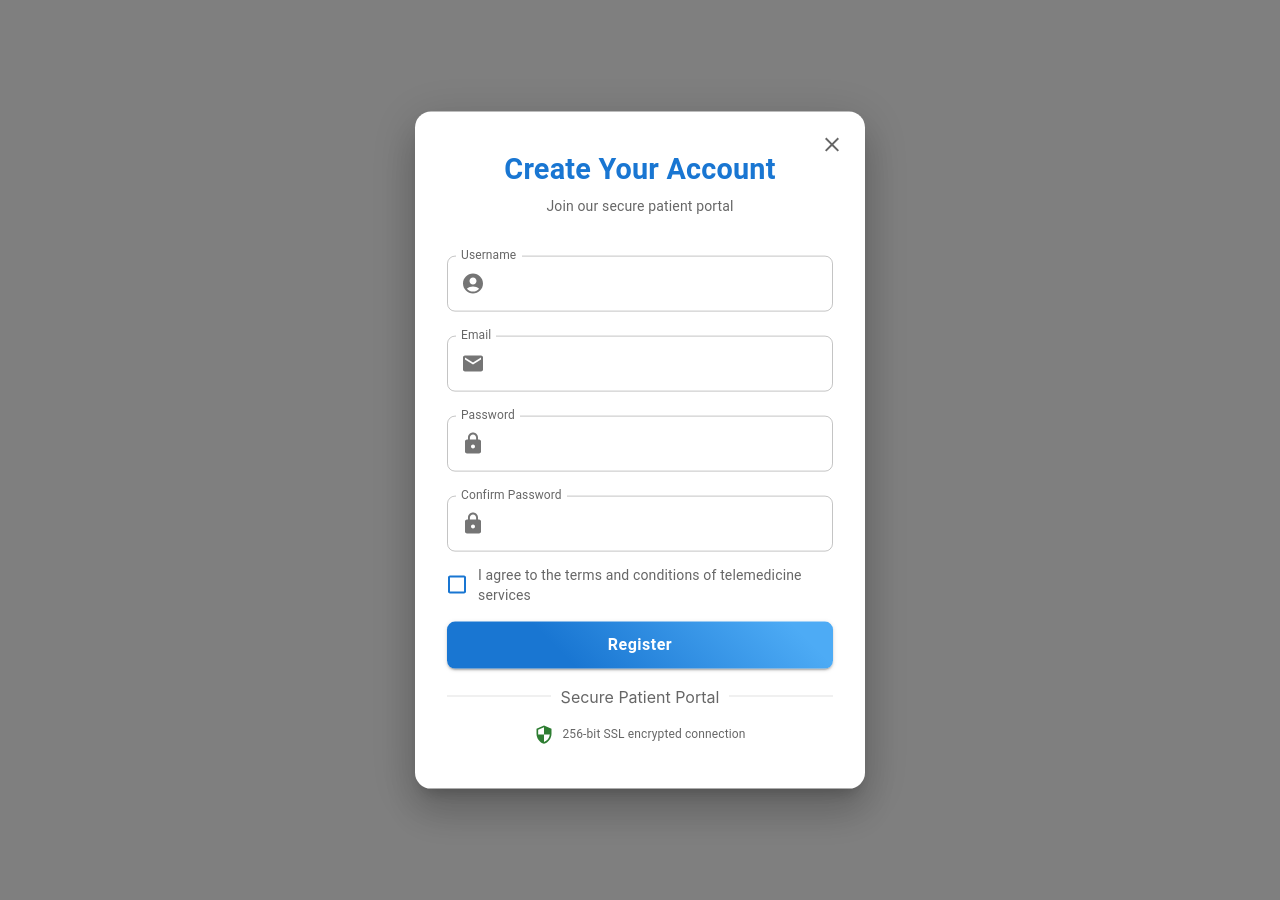
Test case: RegisterPage › shows validation errors if required fields are empty
The width and height of the screenshot is (1280, 900).
Click the button "Register" at (640, 645), box [447,621,833,668]
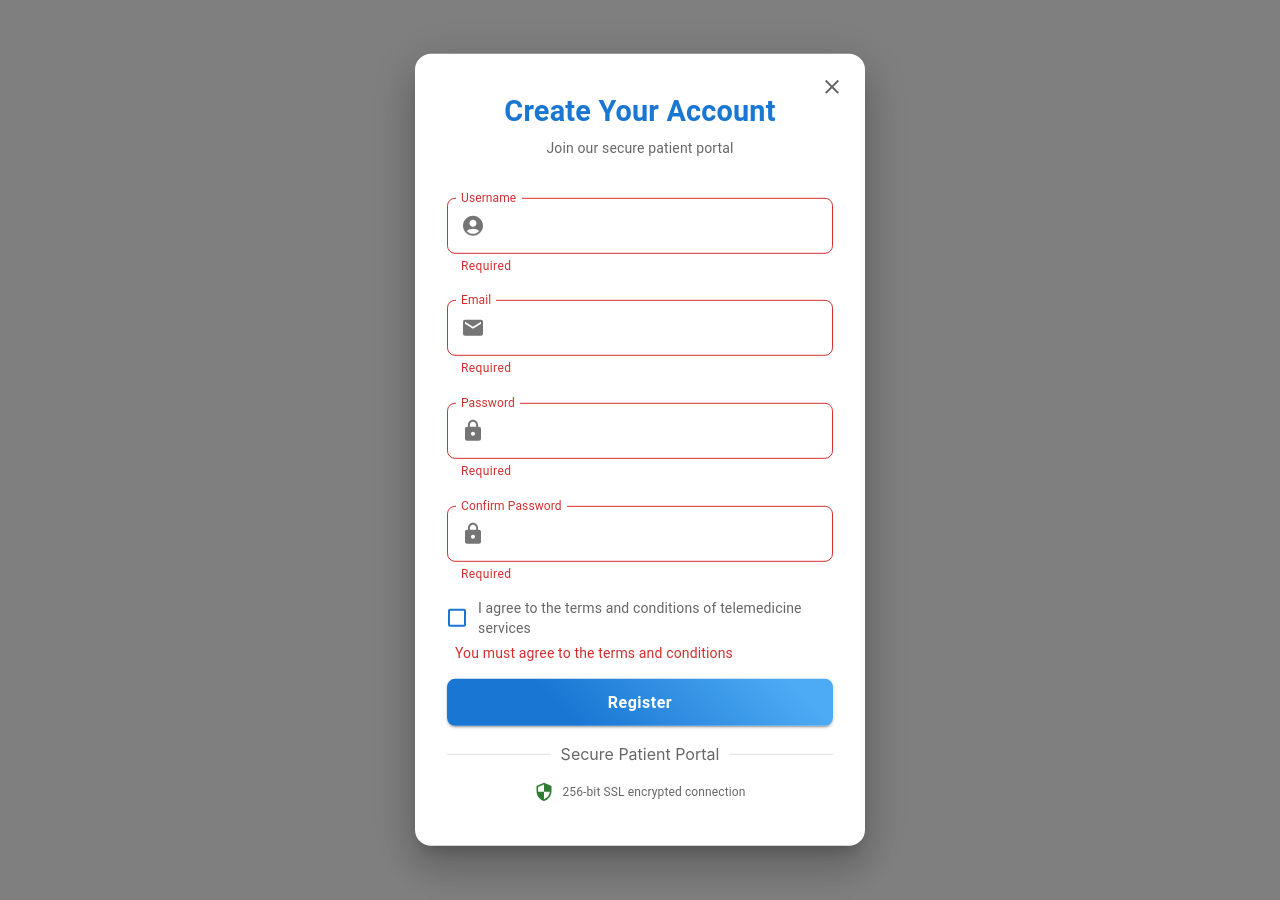
Check: the text "Required" is shown 4 times, box [461,258,511,272]; [461,361,511,375]; [461,464,511,478]; [461,567,511,581]
Check: the text "You must agree to the terms and conditions" is shown, box [455,645,733,661]
